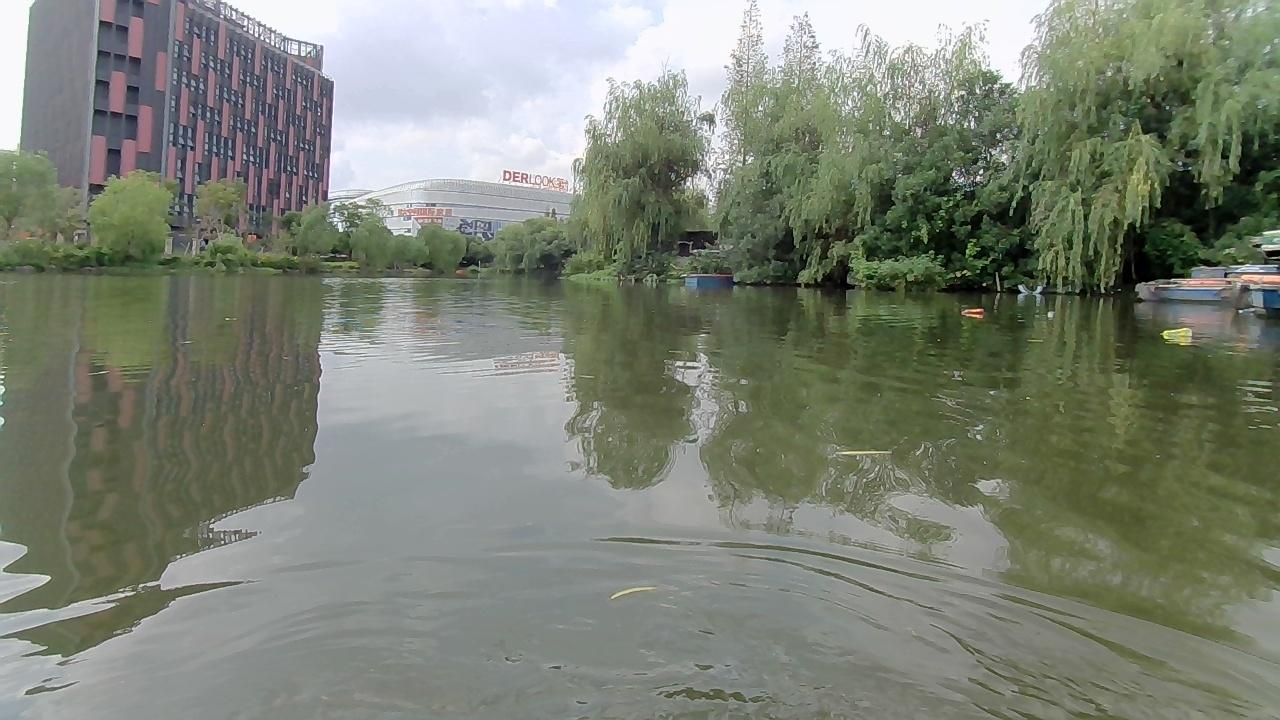bottle: (1159, 322, 1195, 340), (962, 305, 988, 321)
